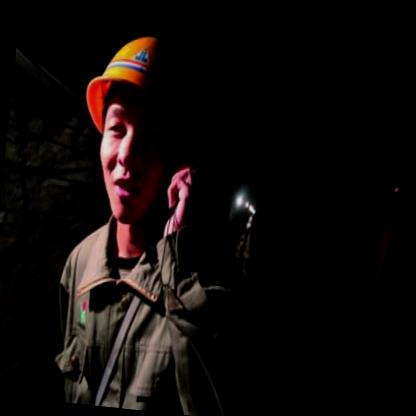helmet: (67, 6, 217, 244)
